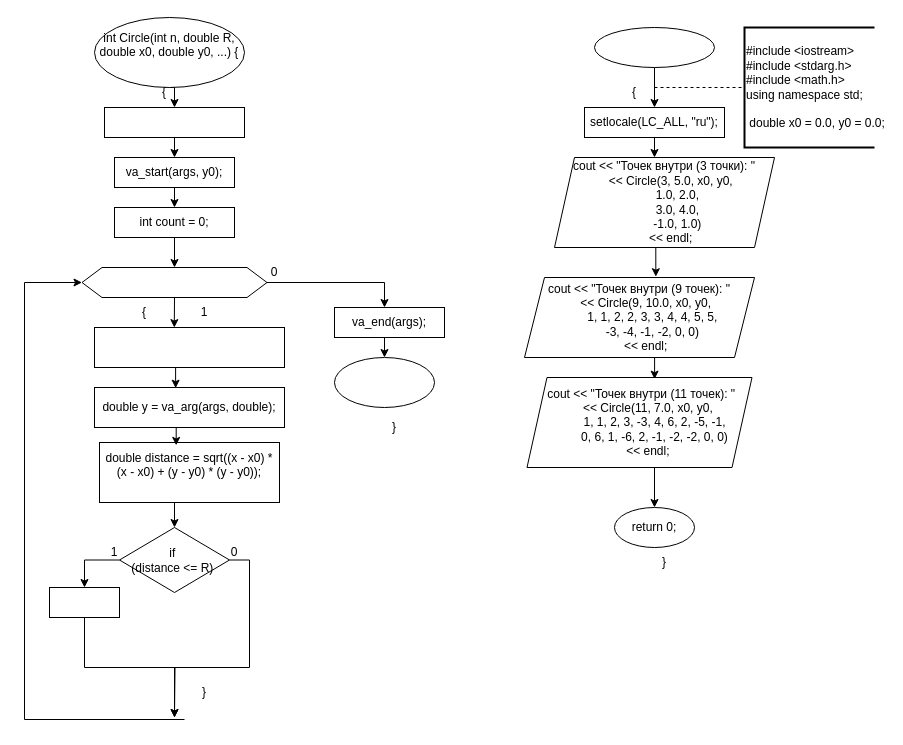
Image size: 903x745. Some labels were removed from this diagram. The shapes that lost their labels are listed below. From the top down, each one's centre as x and y in pixels, then its label:
At (x=654, y=47): "int main()".
At (x=174, y=122): "va_list args;".
At (x=174, y=282): "for (int i = 0; i < n; i++)".
At (x=189, y=347): "double x = va_arg(args, double);".
At (x=384, y=382): "return count;".
At (x=84, y=602): "count++;".
